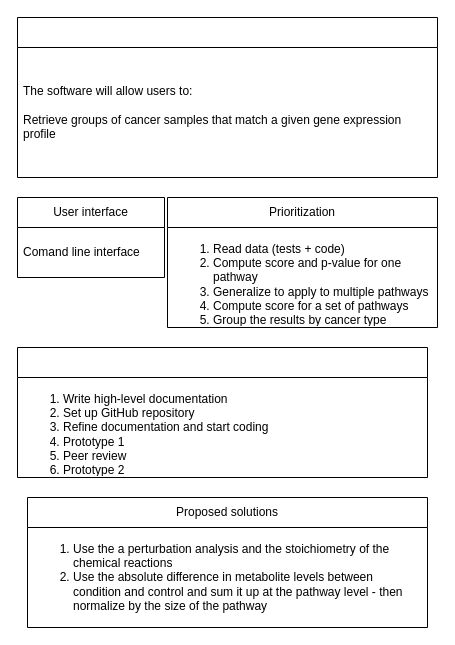
Some shapes in this 455 by 645 pixel diagram are drawn without their labels. The shapes that lost their labels are listed below. From the top down, each one's box as (x1, y1, x2, y2) in pixels, then its label:
(16, 16, 438, 178): Functional description
(16, 346, 428, 478): Goals and milestones
